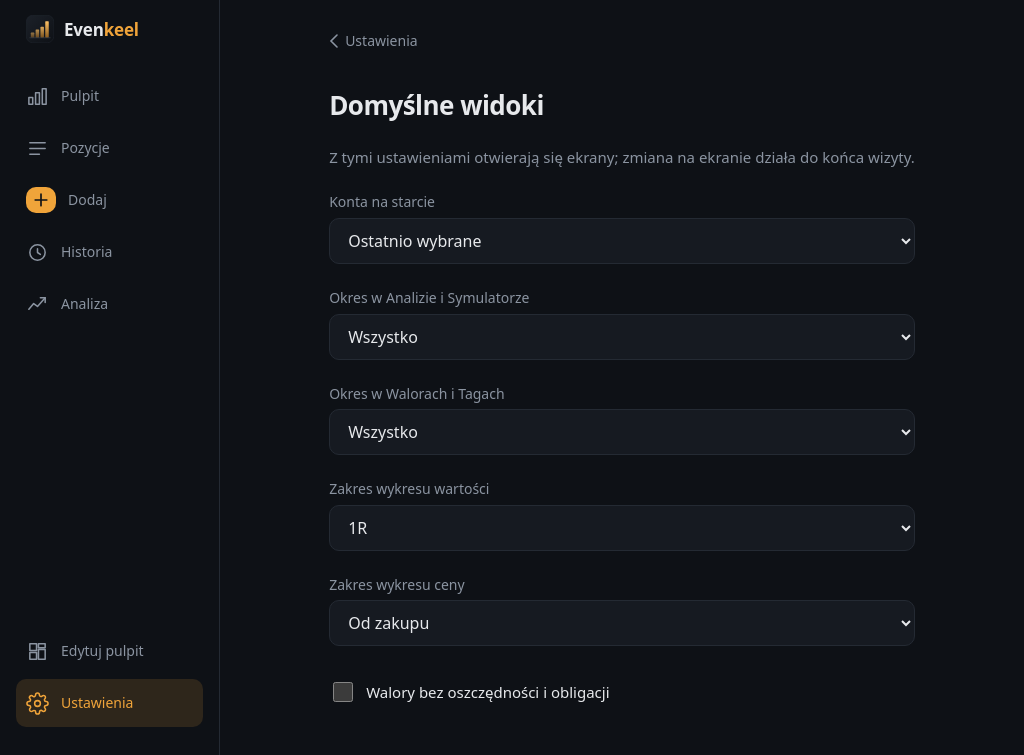
Test: saving default views › says when saving failed
Select "Od pocz. roku" in the dropdown labelled "Okres w Analizie i Symulatorze": {"x": 622, "y": 337} [329,314,915,360]
(page scrolled)
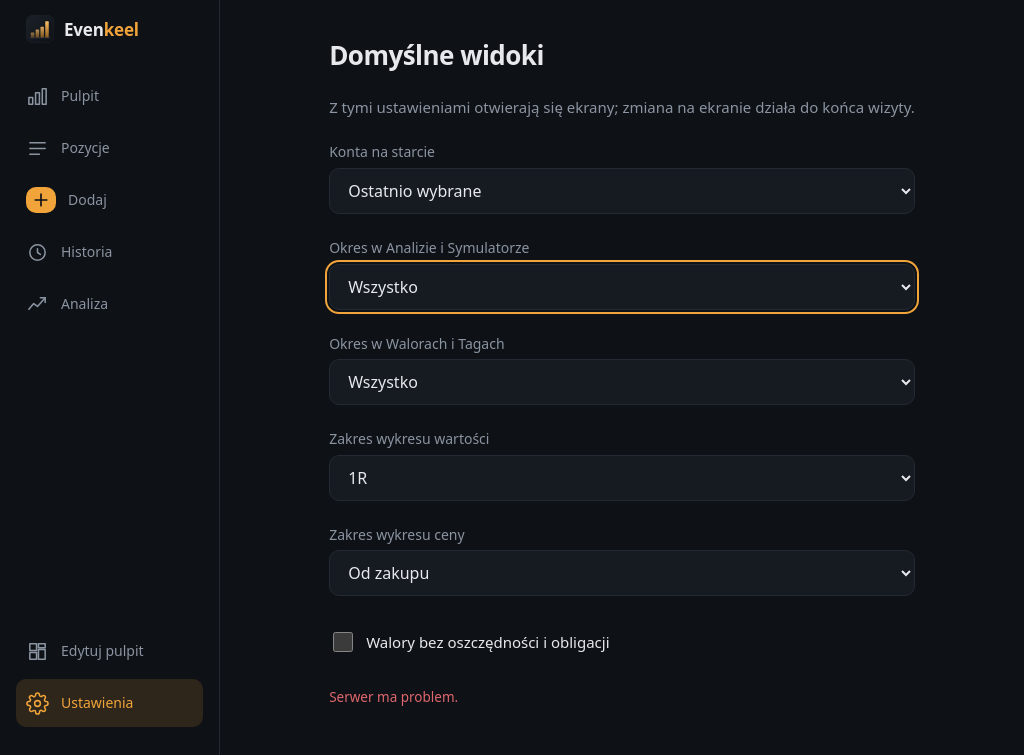
Expected: the message reads "Serwer ma problem.", [329,688,458,706]
